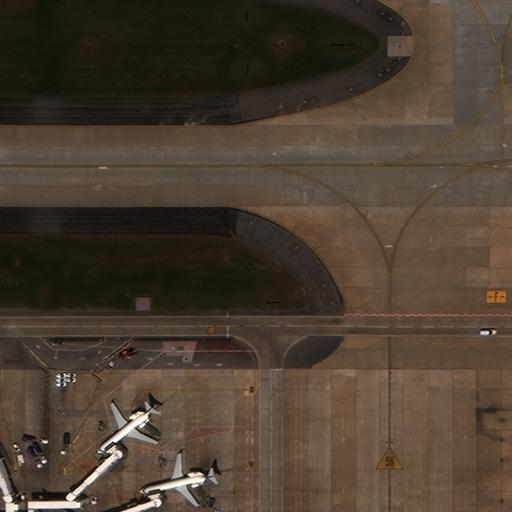Medium Civil Transport: (136, 454, 216, 507), (96, 405, 157, 454)
